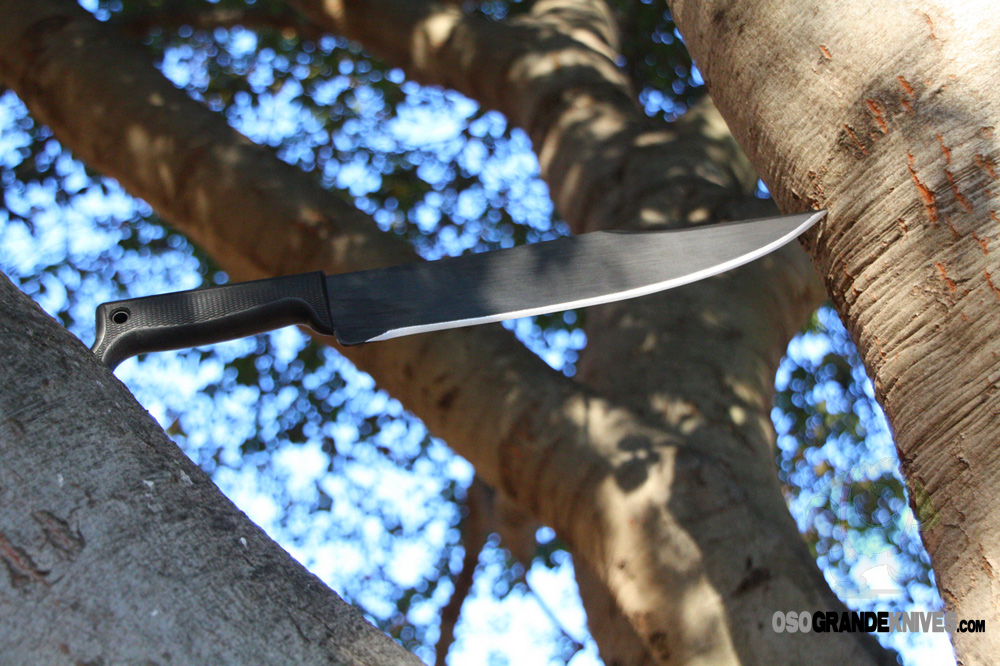knife: (291, 194, 851, 358)
